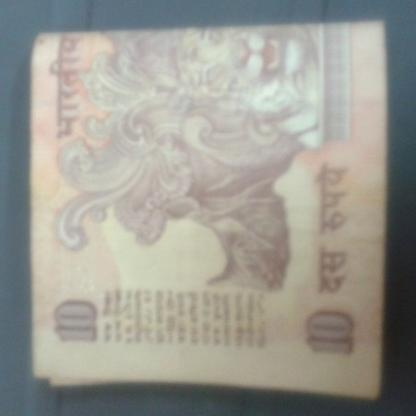Old10Back: (32, 20, 388, 400)
